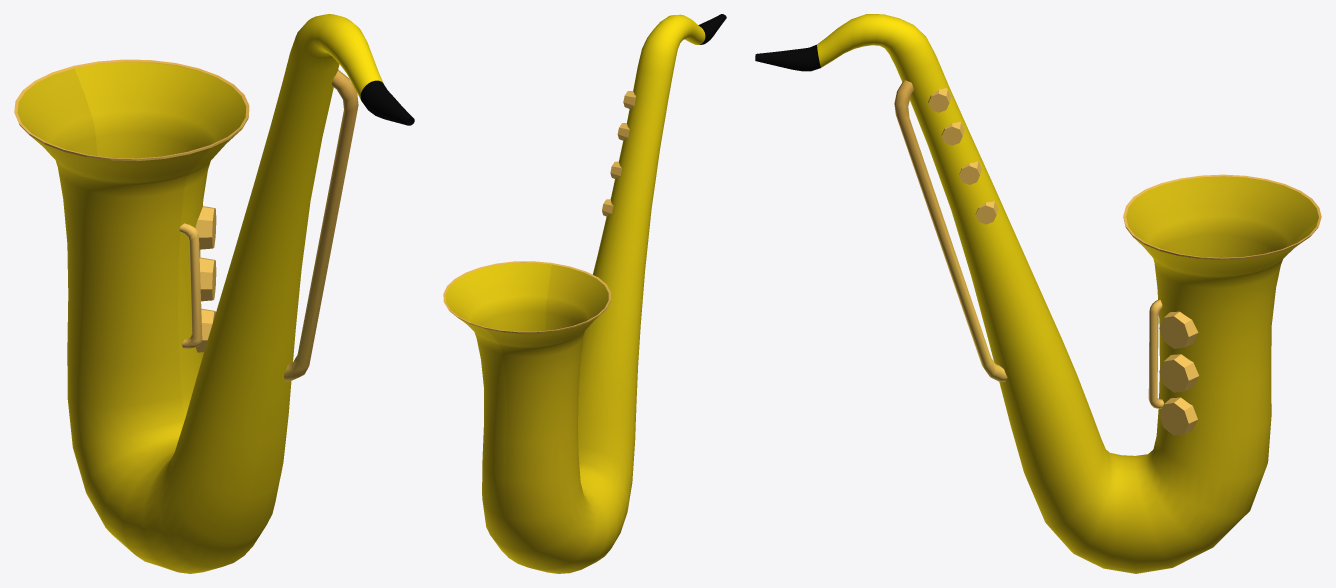
The model's file is saxophone.fbx.
The picture shows the model from 3 angles, left to right: view 1: azimuth 30°, elevation 25°; view 2: azimuth 150°, elevation 25°; view 3: azimuth 270°, elevation 25°; orthographic projection. The views are drawn at different scales.
Parts seen in each view (by area): view 1: Plane.001; view 2: Plane.001; view 3: Plane.001.
Boxes of the visible parts, <box> form: Plane.001: <box>14,14,414,573</box>; Plane.001: <box>443,14,726,573</box>; Plane.001: <box>755,14,1321,573</box>.
Size of the model in its own units: 35.12 by 108 by 100.
